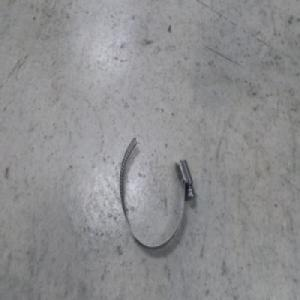AdjustableClamp: (117, 134, 194, 249)
